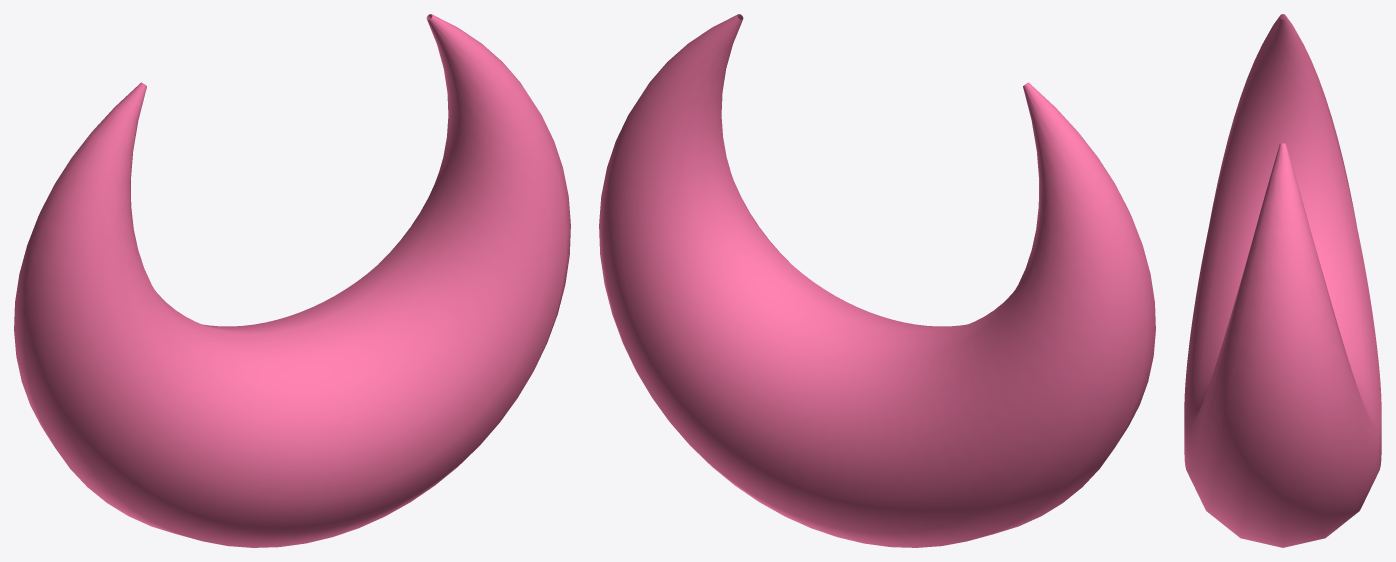
Rendered from Moon.glb.
3 views of the same model, side by side, from view 1: azimuth 30°, elevation 25°; view 2: azimuth 150°, elevation 25°; view 3: azimuth 270°, elevation 25° (orthographic). The views are drawn at different scales.
Visible parts, largest first — view 1: NurbsPath; view 2: NurbsPath; view 3: NurbsPath.
Part boxes in pixels (x1,y1,x2,y2): NurbsPath: (14, 14, 570, 547); NurbsPath: (599, 14, 1155, 547); NurbsPath: (1184, 14, 1381, 547).
Bounding box in the file's own units: 3.15 × 2.73 × 1.11.
